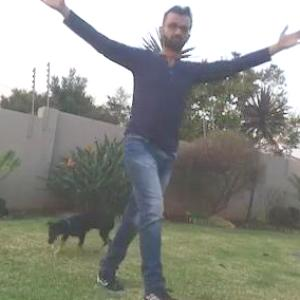takeoff: (44, 0, 286, 275)
